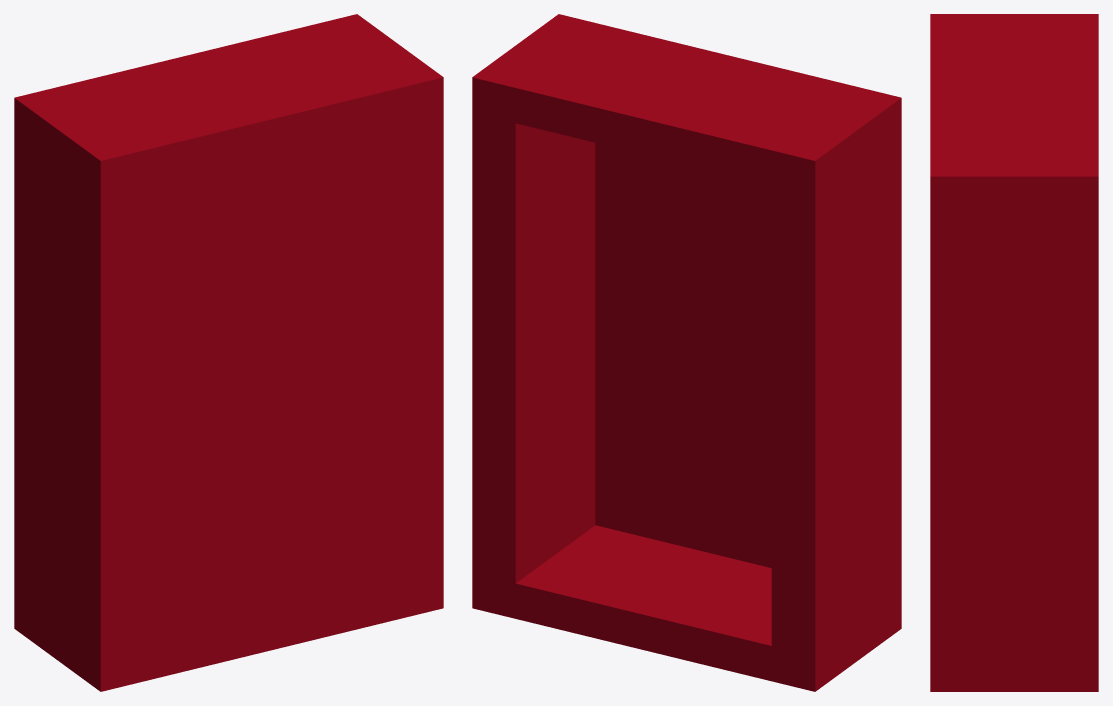
File: Red Box.fbx
3 renders of one model, left to right at view 1: azimuth 30°, elevation 25°; view 2: azimuth 150°, elevation 25°; view 3: azimuth 270°, elevation 25°, orthographic. The views are drawn at different scales.
Parts seen in each view (by area): view 1: pCube1; view 2: pCube1; view 3: pCube1.
Boxes of the visible parts, box(x1,y1,x2,y2) form: pCube1: box(14, 14, 443, 691); pCube1: box(472, 14, 901, 691); pCube1: box(930, 14, 1098, 691).
Bounding box in the file's own units: 111 × 164 × 48.33.
